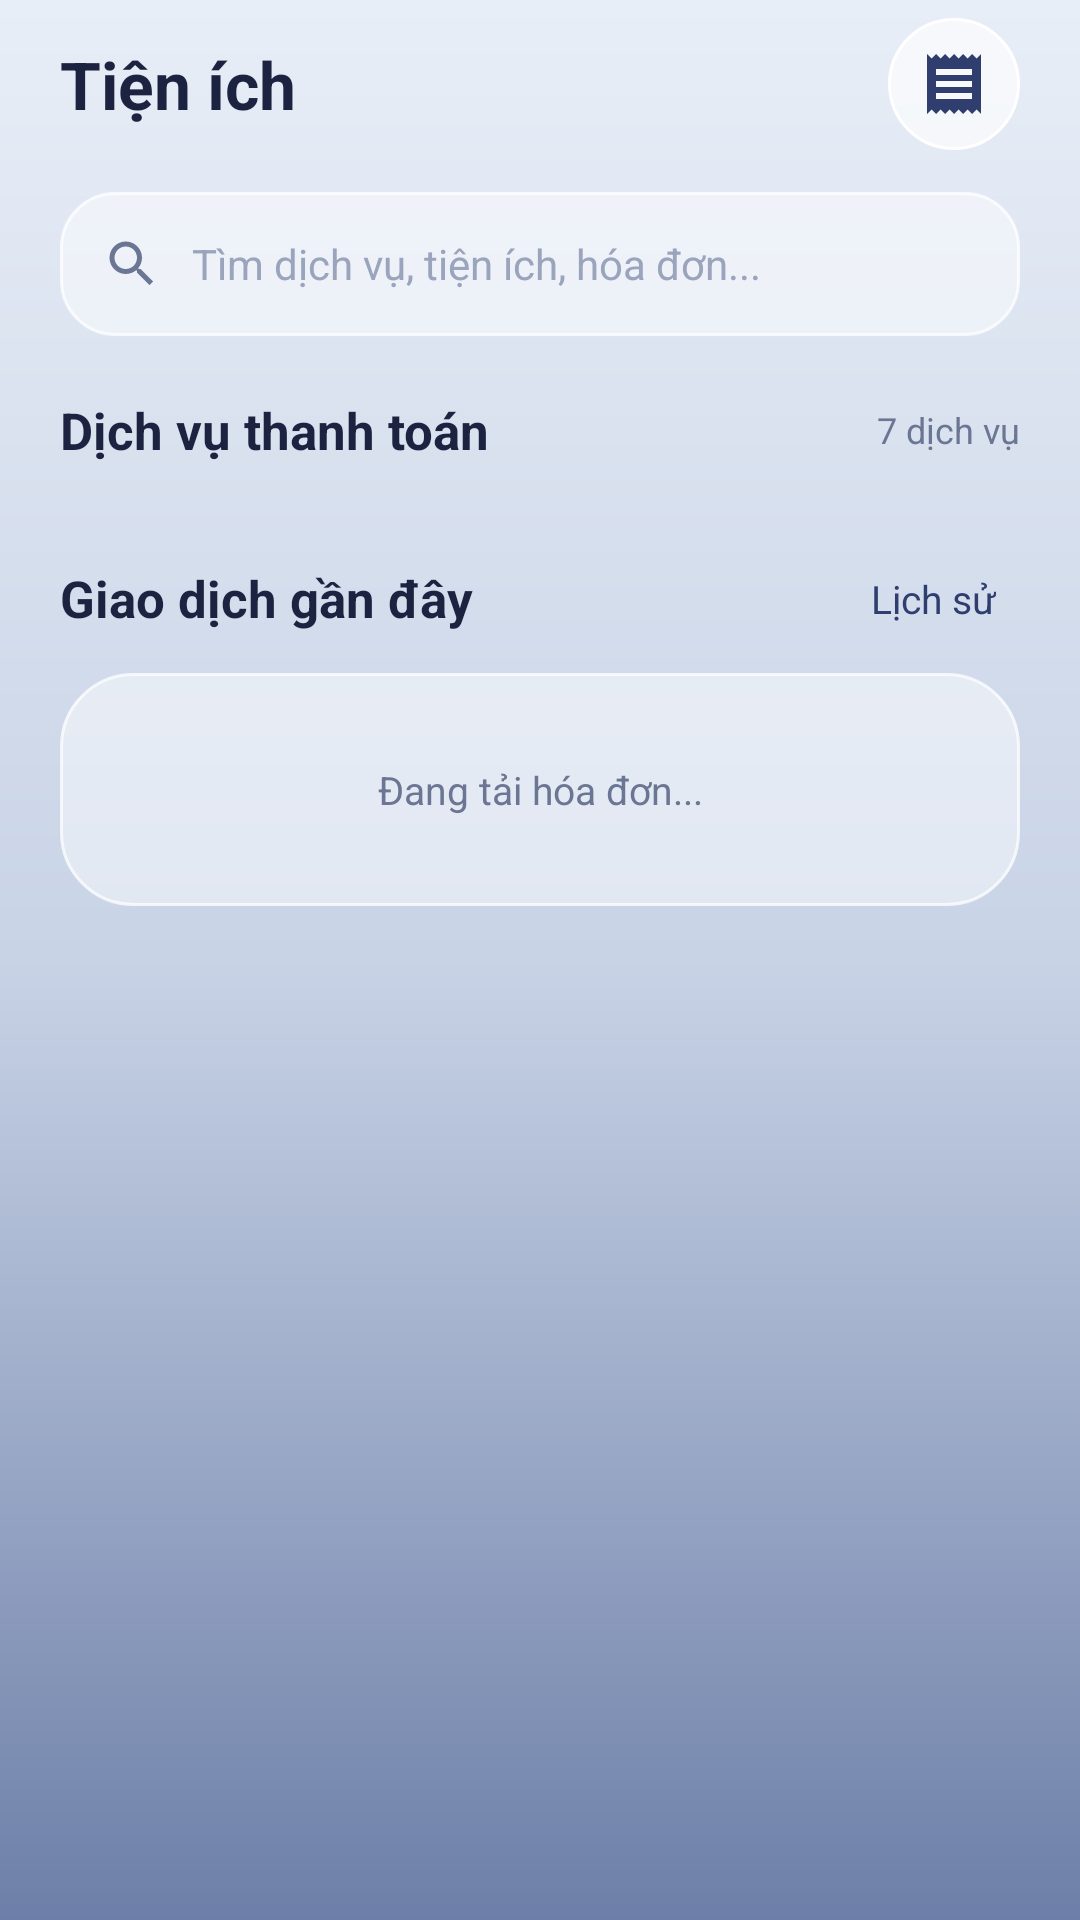

Where to tap for icons on this 1080×1920 app screen, as [x,y]:
search: [131,263]
